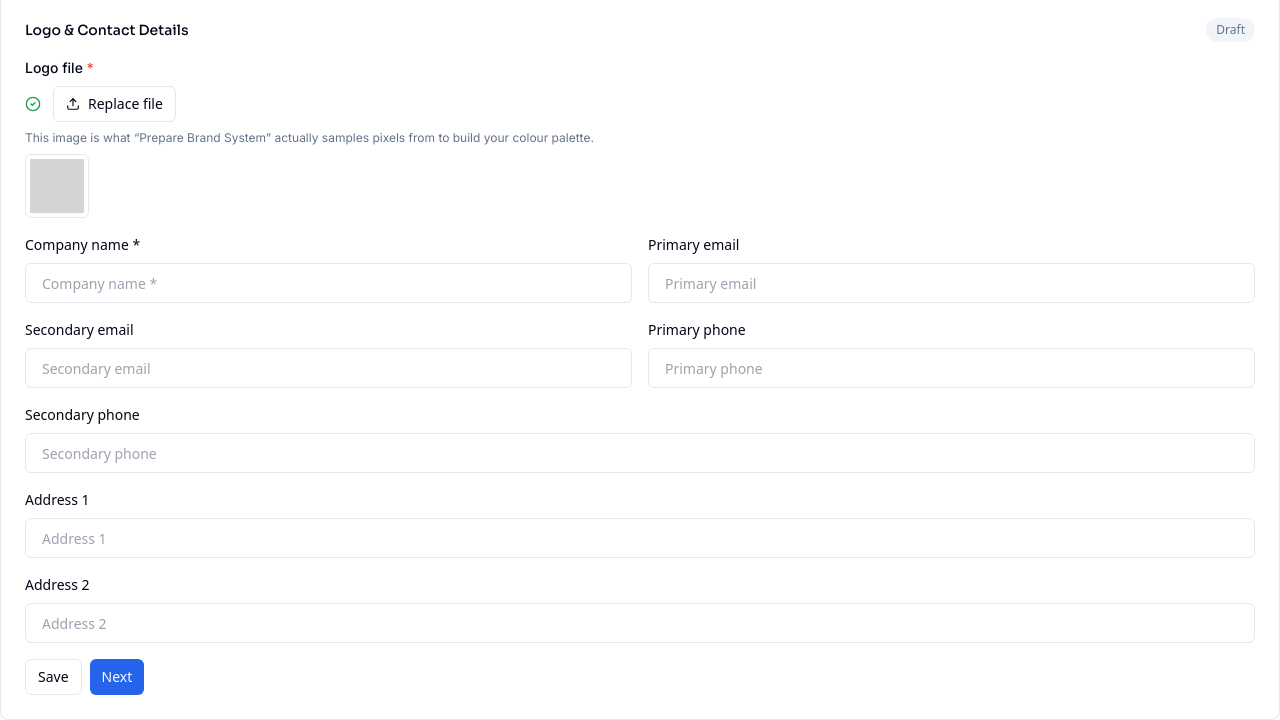
Test case: IntakeStage — Logo & Contact Details (standalone Application Settings fields) › clicking Next with an empty company name shows a validation error and does not save
(page scrolled)
Expected: the field labelled "Company name *" is shown, [25,263,632,303]
Click the button "Next" at (117, 677), box [90,659,144,695]
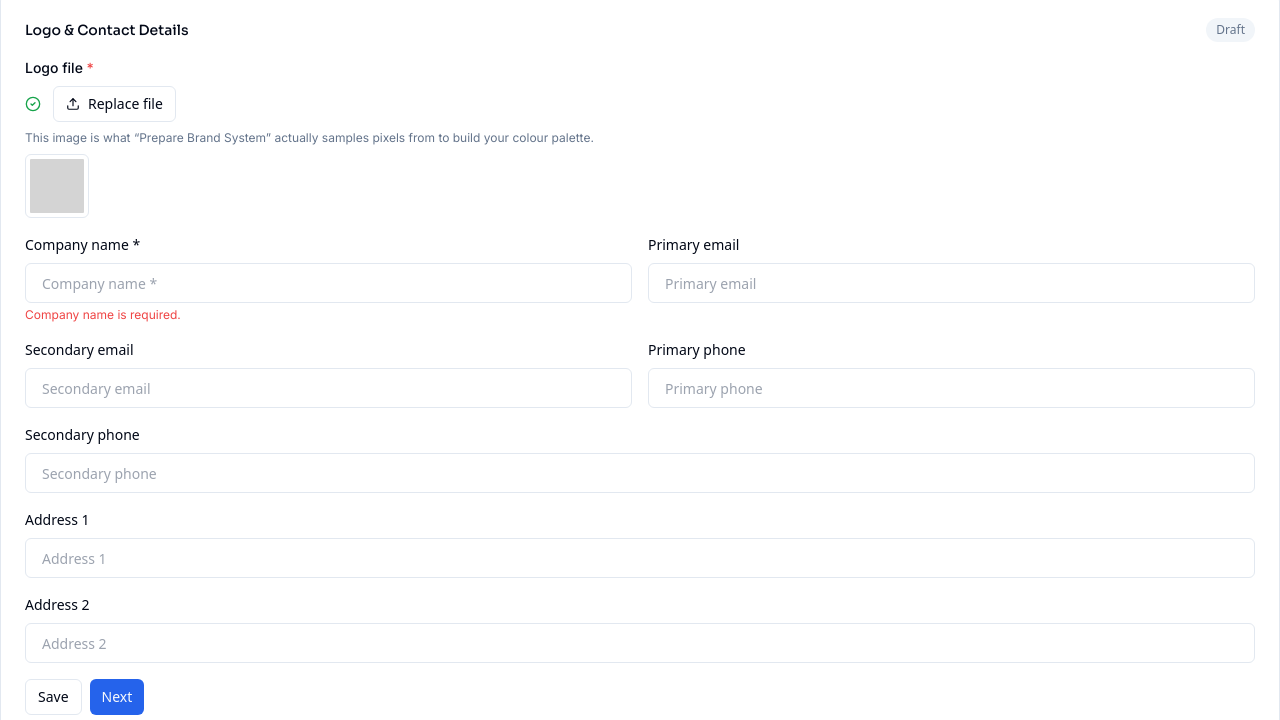
Expected: the text "Company name is required." is shown, [25,307,181,322]
